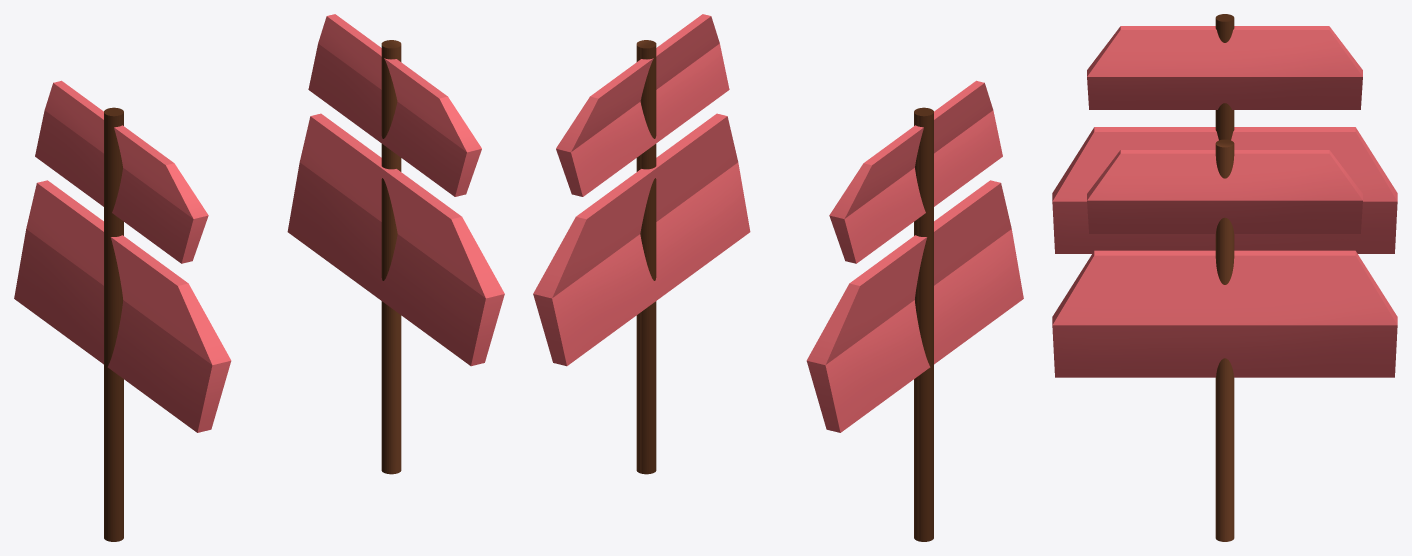
Rendered from Ship-1.fbx.
The picture shows the model from 3 angles, left to right: view 1: azimuth 30°, elevation 25°; view 2: azimuth 150°, elevation 25°; view 3: azimuth 270°, elevation 25°; orthographic projection. The views are drawn at different scales.
Parts seen in each view (by area): view 1: Sphere.001, Cylinder.001, Cylinder; view 2: Sphere.001, Cylinder.001, Cylinder; view 3: Sphere.001, Cylinder, Cylinder.001.
Part boxes in pixels (x1,y1,x2,y2): Sphere.001: (14,14,504,432); Cylinder.001: (104,107,123,541); Cylinder: (381,40,401,474); Sphere.001: (533,14,1023,432); Cylinder.001: (914,107,933,541); Cylinder: (636,40,656,474); Sphere.001: (1052,26,1397,377); Cylinder: (1215,139,1234,541); Cylinder.001: (1215,14,1234,140).
Bounding box in the file's own units: 61478 × 81607 × 64709.
3 materials, 3 textured.
